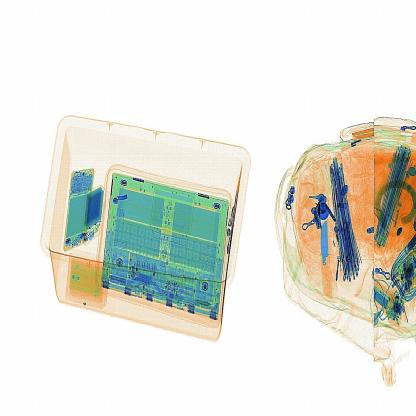wrench: (318, 225, 335, 304)
